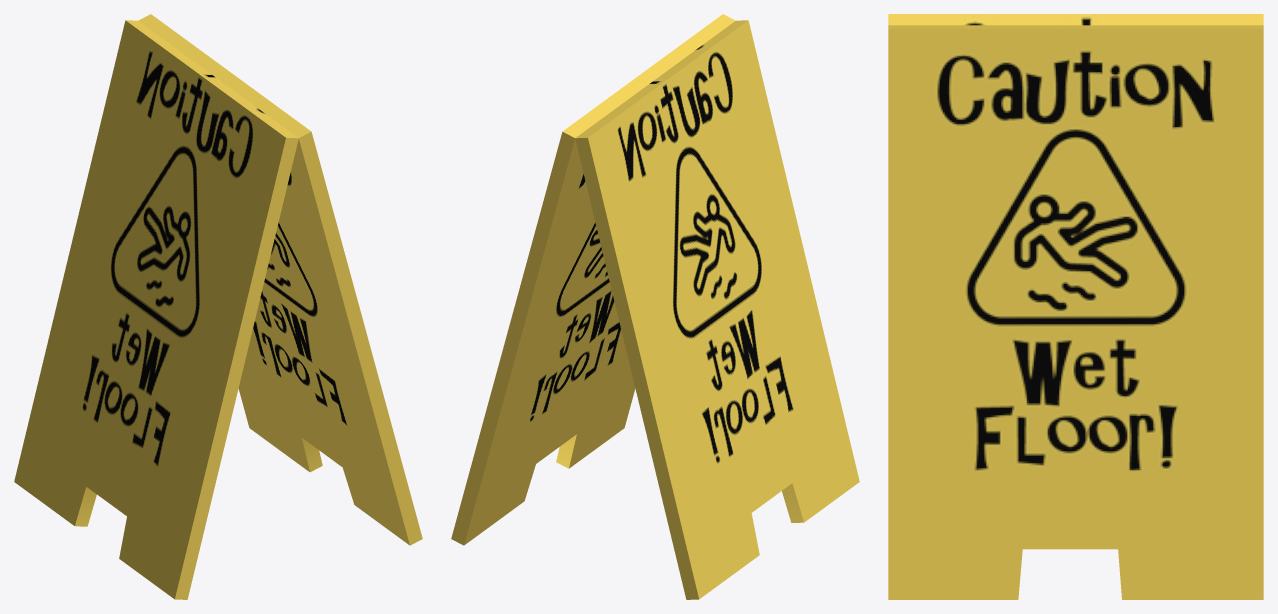
The model's file is MSH_Wet_Floor_Alert 1.fbx.
3 views of the same model, side by side, from view 1: azimuth 30°, elevation 25°; view 2: azimuth 150°, elevation 25°; view 3: azimuth 270°, elevation 25° (orthographic). The views are drawn at different scales.
Parts seen in each view (by area): view 1: MSH_Wet_Floor_Alert; view 2: MSH_Wet_Floor_Alert; view 3: MSH_Wet_Floor_Alert.
Boxes of the visible parts, left/top/right/bottom form: MSH_Wet_Floor_Alert: left=14, top=14, right=422, bottom=599; MSH_Wet_Floor_Alert: left=451, top=14, right=859, bottom=599; MSH_Wet_Floor_Alert: left=888, top=14, right=1263, bottom=599.
Bounding box in the file's own units: 22.79 × 38.46 × 25.56.
